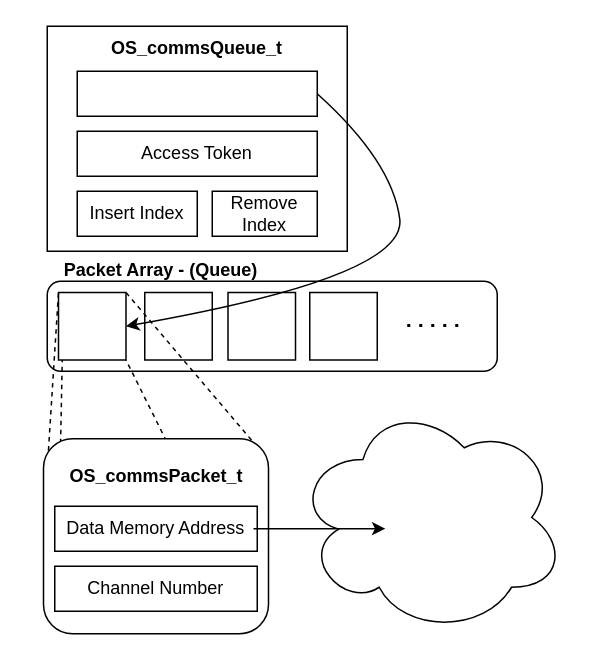
Some shapes in this 593 by 660 pixel diagram are drawn without their labels. Here are the shapes that lost their labels. From the top down, the centre of each, then its label:
At (196,93): "Packets Array Pointer".
At (430,517): "Memory Pool".
